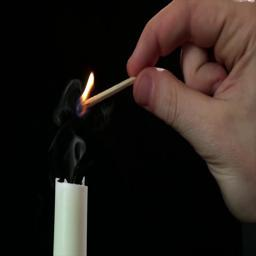fire: (80, 73, 95, 101)
